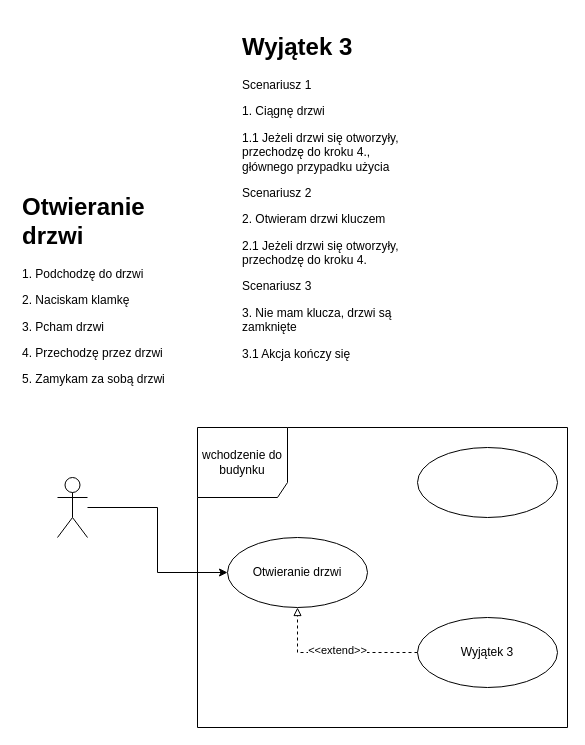
Image size: 585x745. Some labels were removed from this diagram. Here are the shapes that lost their labels. From the top down, the centre of each, then its label:
At pixel 487 482: "Use Case".
At pixel 72 507: "Pracownik firmy".
